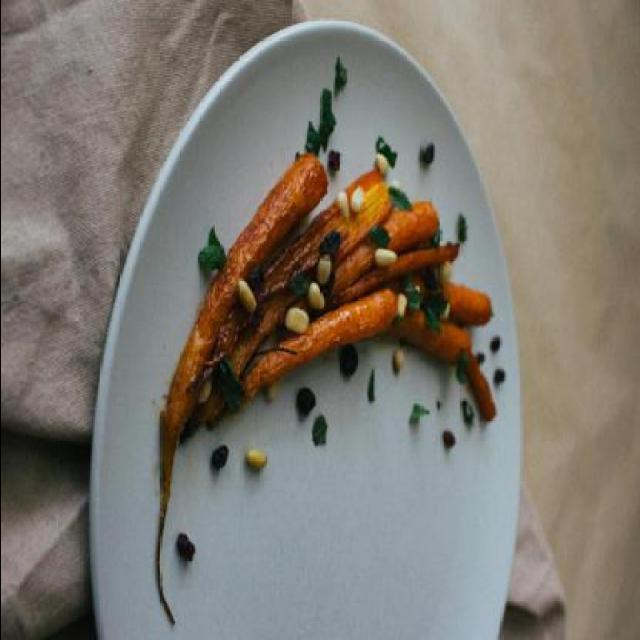Carrot: (168, 192, 472, 486)
